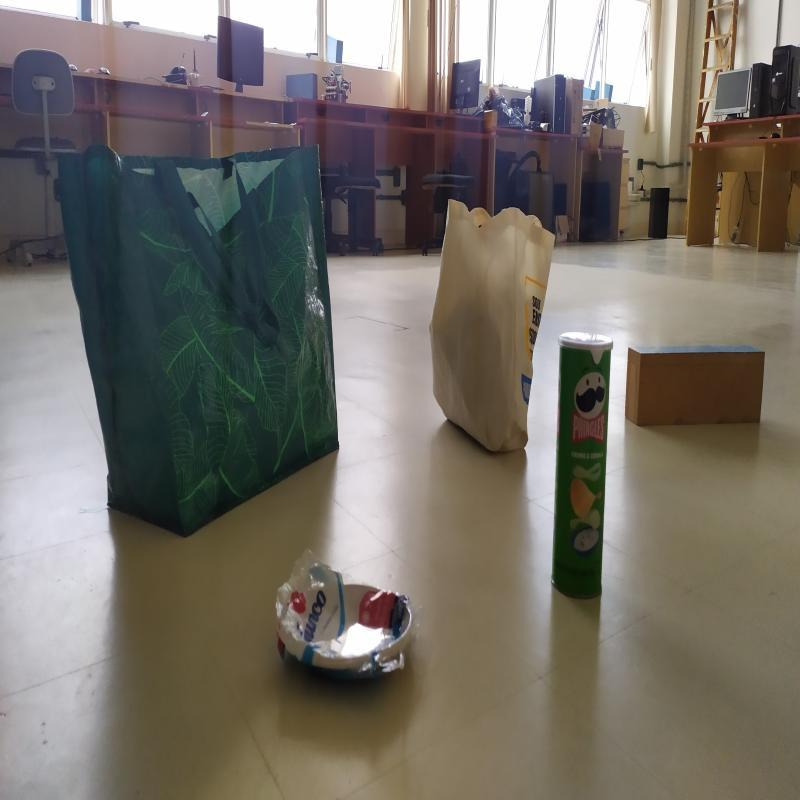Bag: (62, 140, 342, 530), (431, 200, 557, 451)
Plate: (277, 569, 414, 678)
Pringles: (554, 330, 615, 600)
